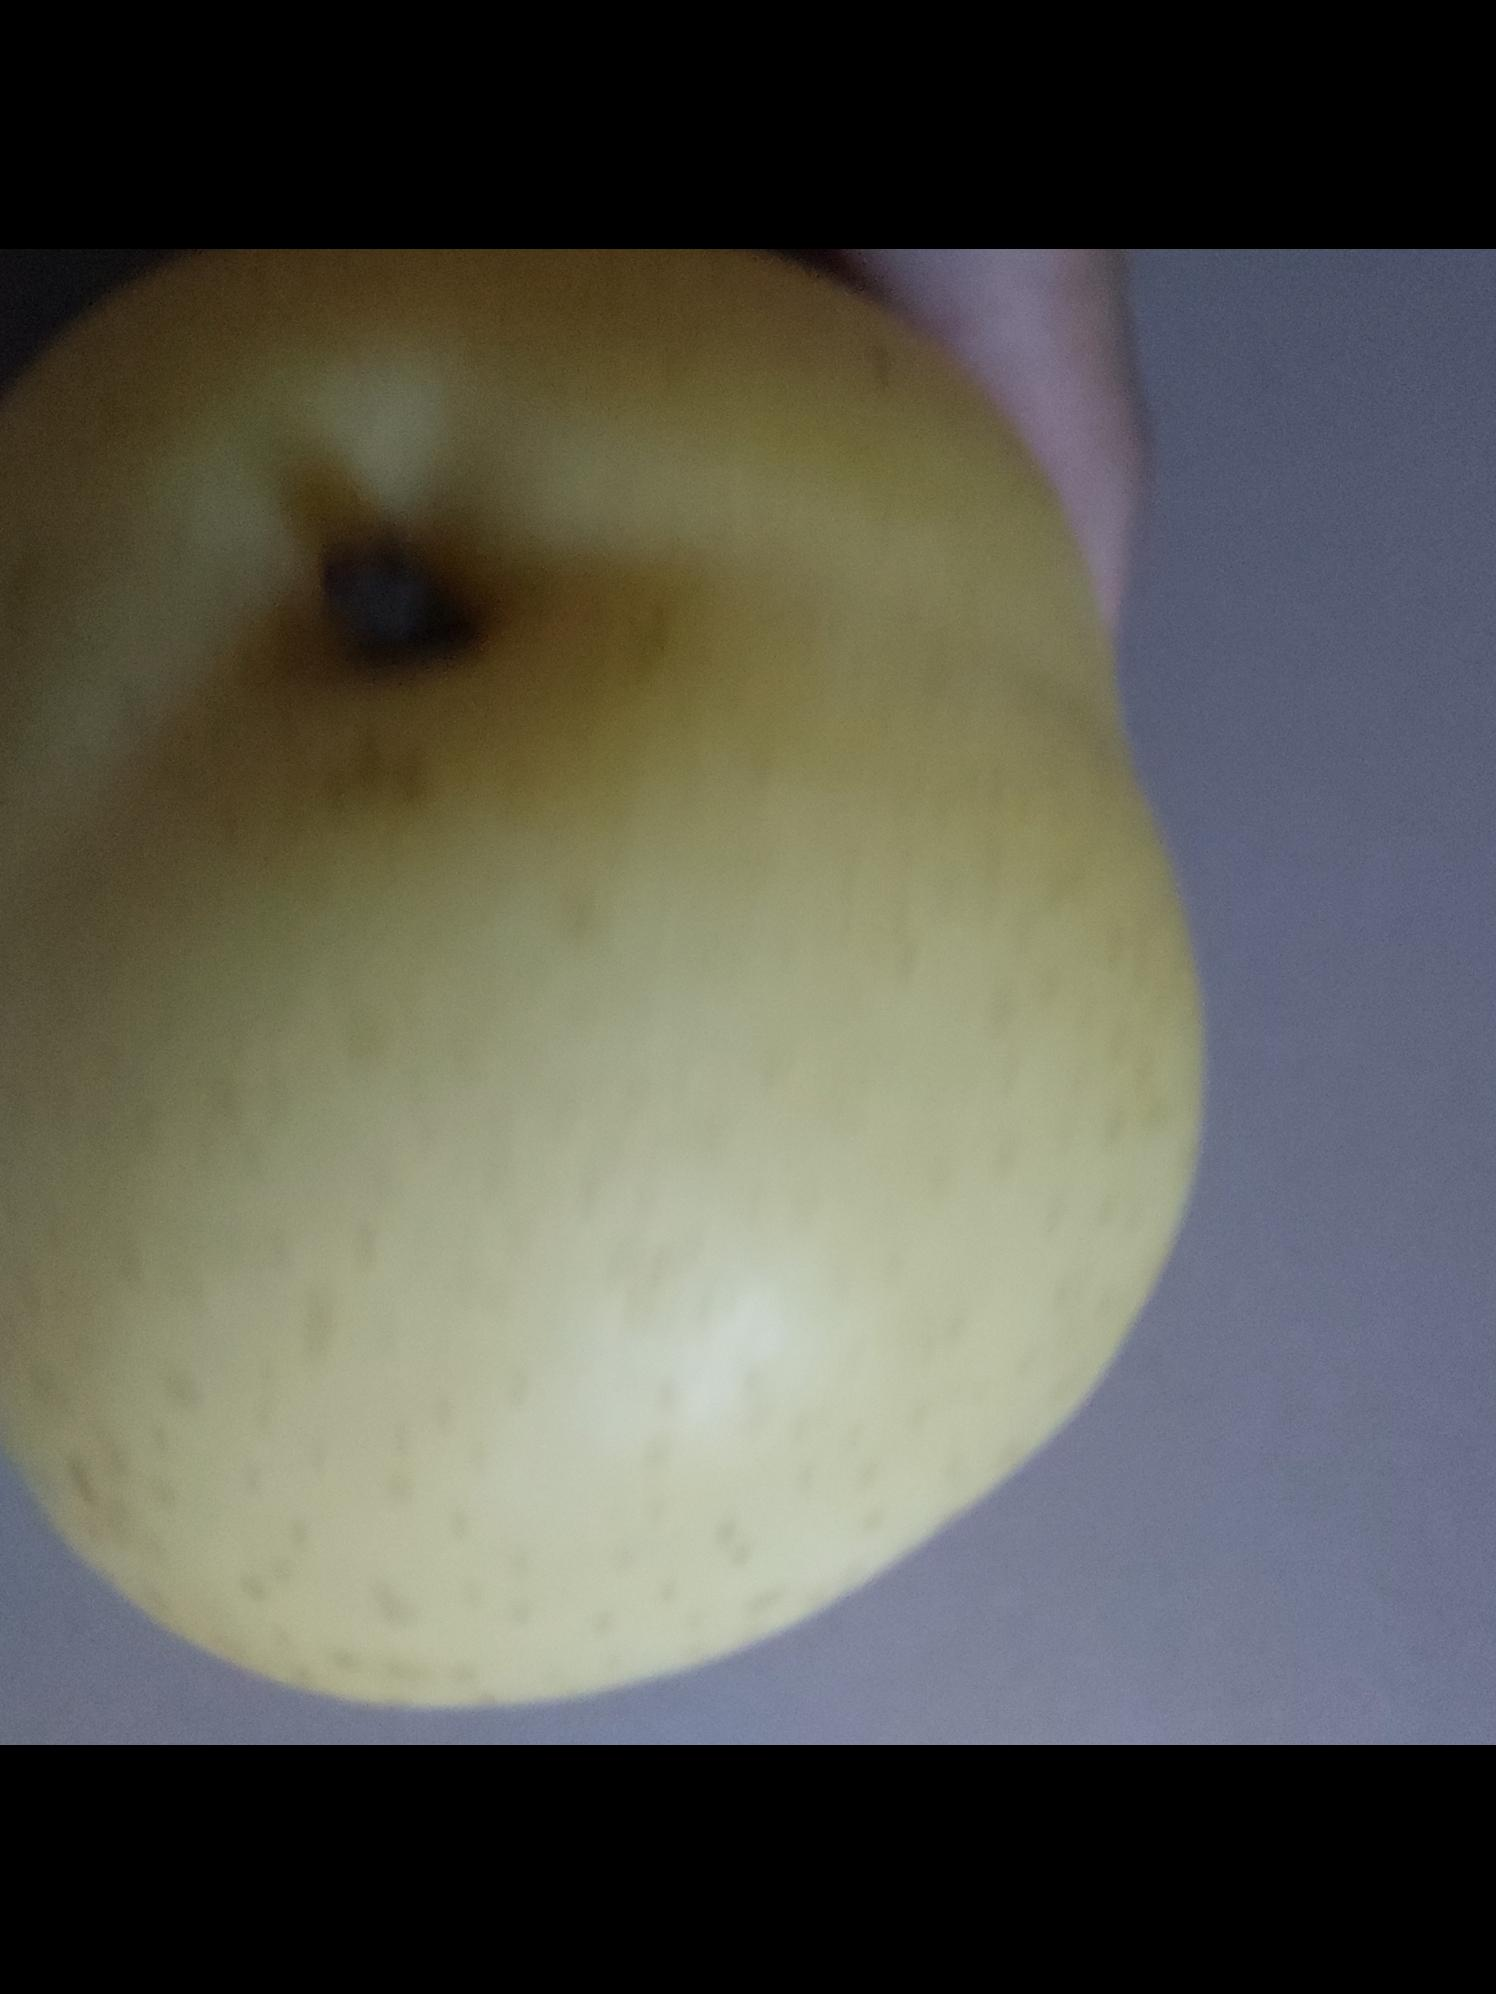Good Pear: (0, 249, 1201, 1705)
